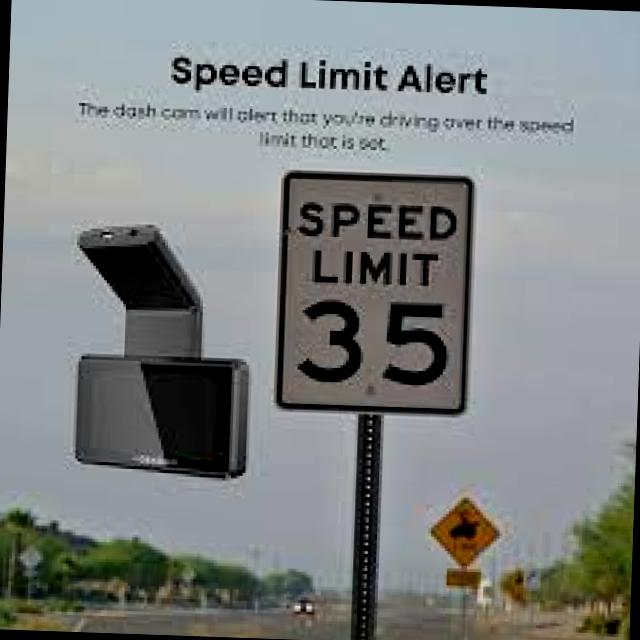Speed Limit Signs: (270, 166, 477, 418)
